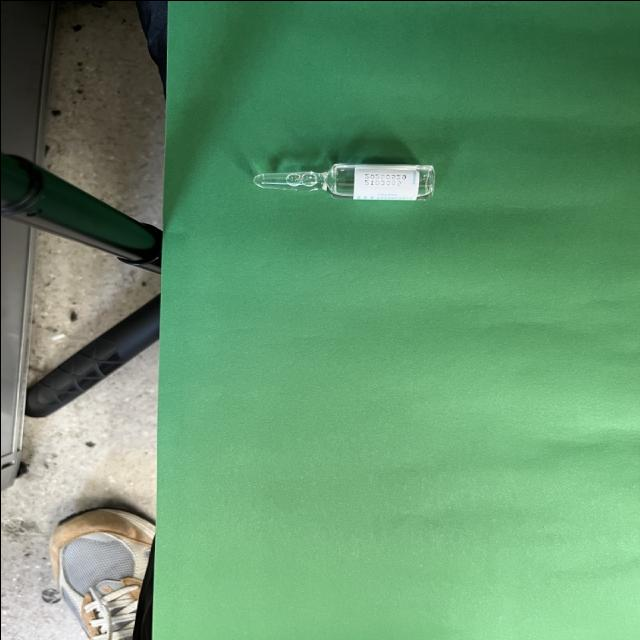Ampoules: (252, 162, 433, 200)
